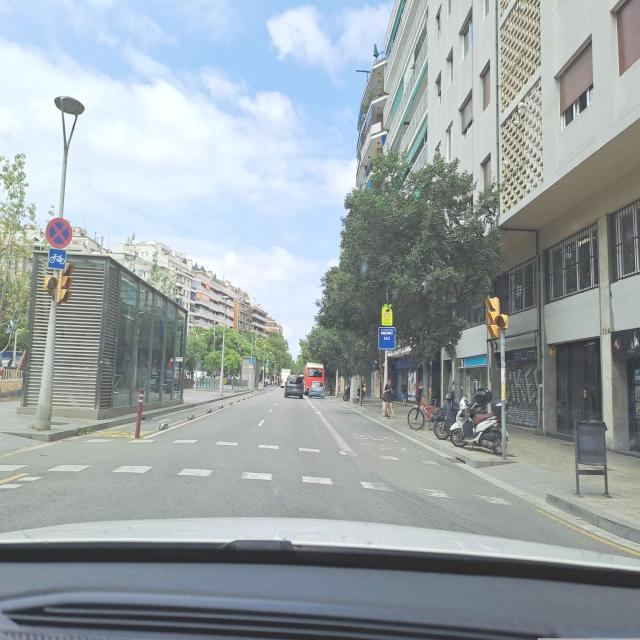bike: (450, 388, 508, 454), (434, 392, 468, 440), (407, 397, 441, 431), (343, 385, 350, 401)
car: (284, 375, 304, 399), (308, 380, 325, 399)
